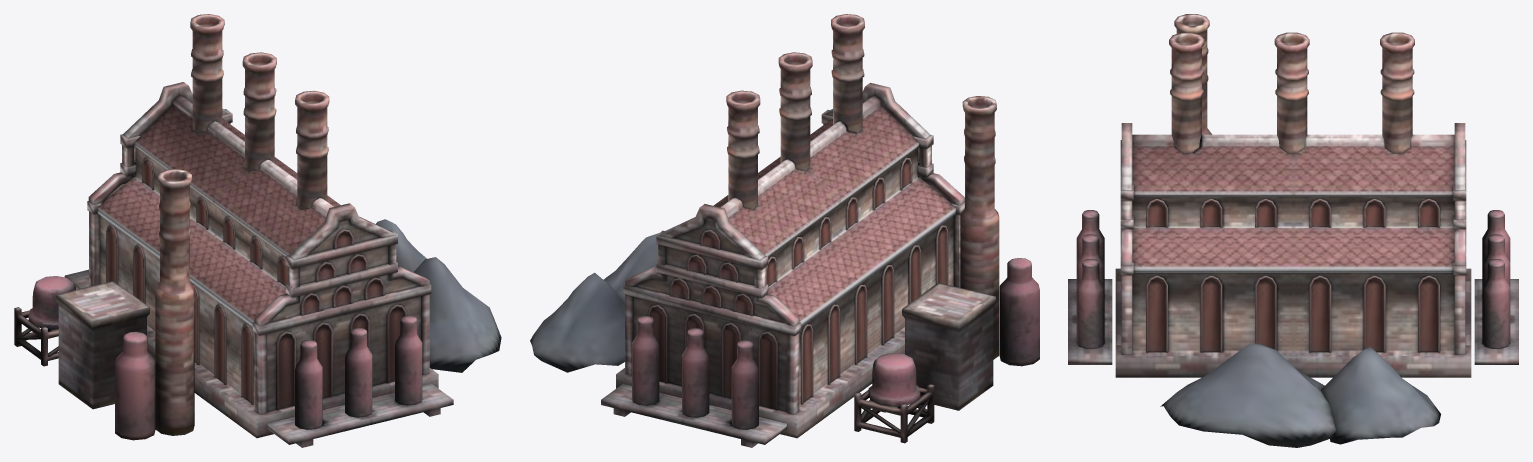
Rendered from PowerPlant.glb.
3 views of the same model, side by side, from view 1: azimuth 30°, elevation 25°; view 2: azimuth 150°, elevation 25°; view 3: azimuth 270°, elevation 25° (orthographic).
Parts seen in each view (by area): view 1: Cube.037; view 2: Cube.037; view 3: Cube.037.
Part boxes in pixels (box(x1,y1,x2,y2)): Cube.037: box(14, 14, 501, 447); Cube.037: box(530, 14, 1039, 447); Cube.037: box(1068, 14, 1518, 447).
Bounding box in the file's own units: 9.87 × 6.93 × 9.33.
1 material, 1 textured.
